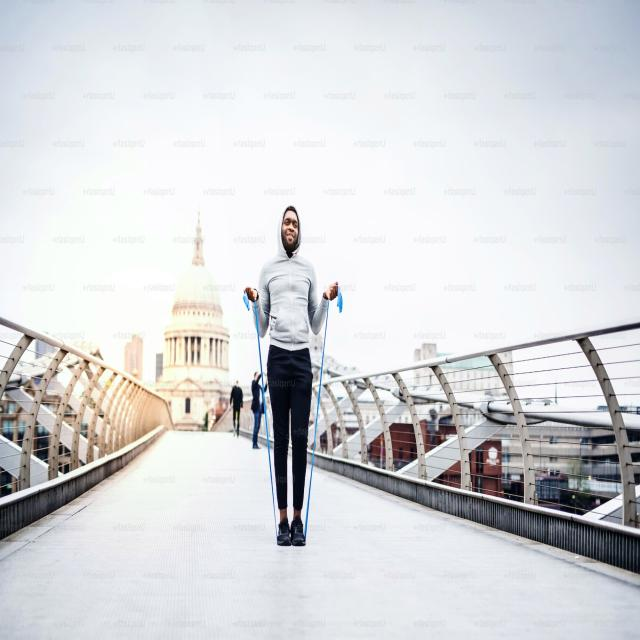adult: (245, 203, 339, 548), (250, 371, 268, 448), (229, 379, 243, 437)
